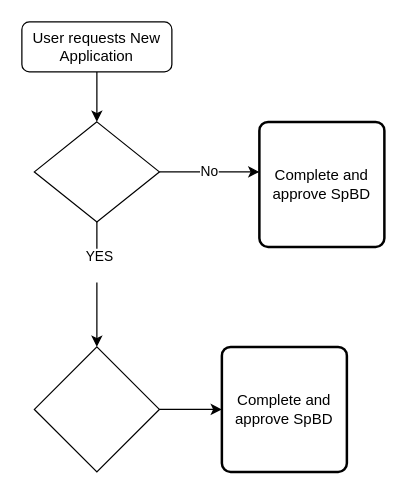
The diagram is 408 pixels wide and 495 high, and some of its shapes have lost their labels. Each missing label, with the centre of its shape:
"DevOps New Application Form Filled Out?" goes at [96,409].
"SPbD Completed?" goes at [96,171].
